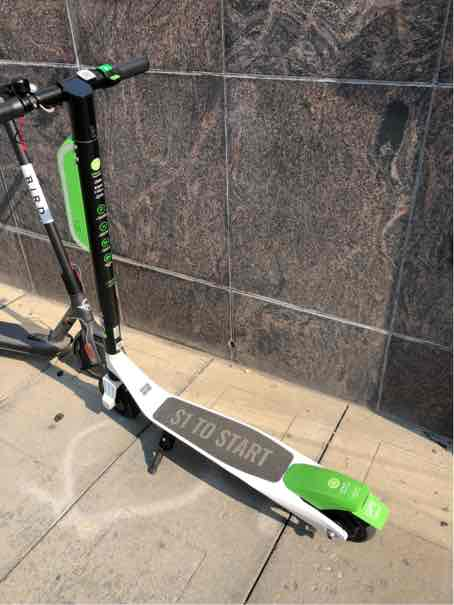scooter: (8, 74, 388, 582)
